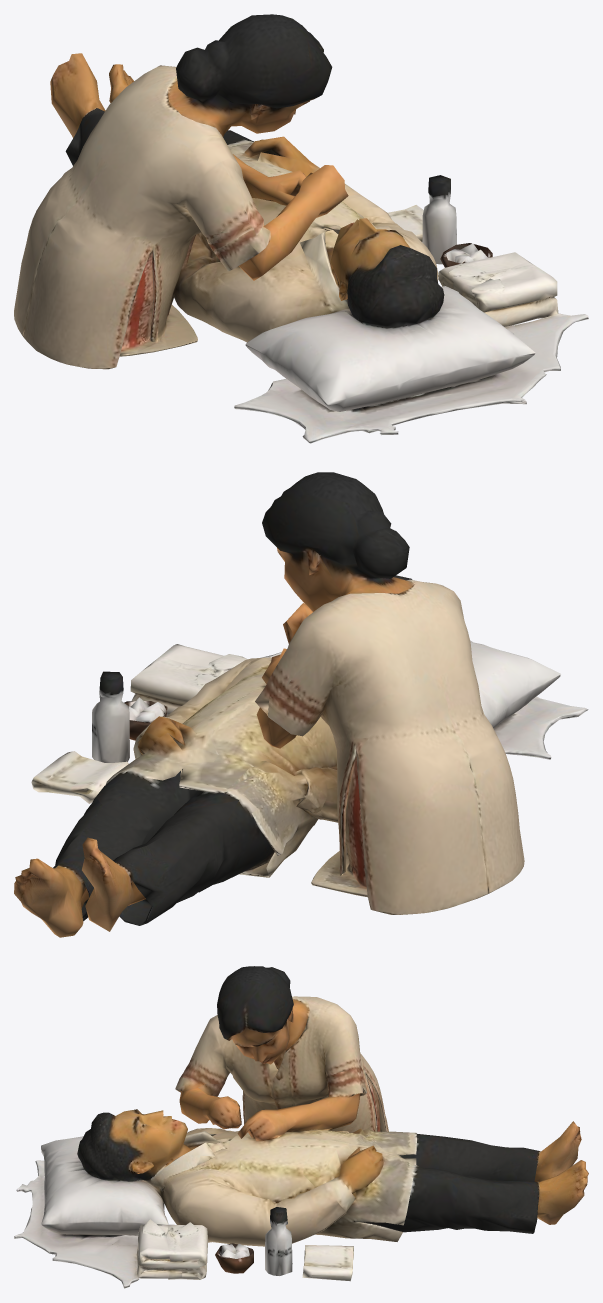
Rendered from Bagongon-512(10k).glb.
3 views of the same model, one above another, from view 1: azimuth 30°, elevation 25°; view 2: azimuth 150°, elevation 25°; view 3: azimuth 270°, elevation 25° (orthographic). The views are drawn at different scales.
Parts seen in each view (by area): view 1: tripo_node_b2565afc-72d4-4166-9209-071f0f324c5e; view 2: tripo_node_b2565afc-72d4-4166-9209-071f0f324c5e; view 3: tripo_node_b2565afc-72d4-4166-9209-071f0f324c5e.
Boxes of the visible parts, x1,y1,x2,y2 form: tripo_node_b2565afc-72d4-4166-9209-071f0f324c5e: (14, 14, 588, 443); tripo_node_b2565afc-72d4-4166-9209-071f0f324c5e: (14, 472, 588, 937); tripo_node_b2565afc-72d4-4166-9209-071f0f324c5e: (14, 966, 588, 1288).
Size of the model in its own units: 0.6653 by 0.4468 by 0.9797.
Materials: 1 (1 with a texture image).
